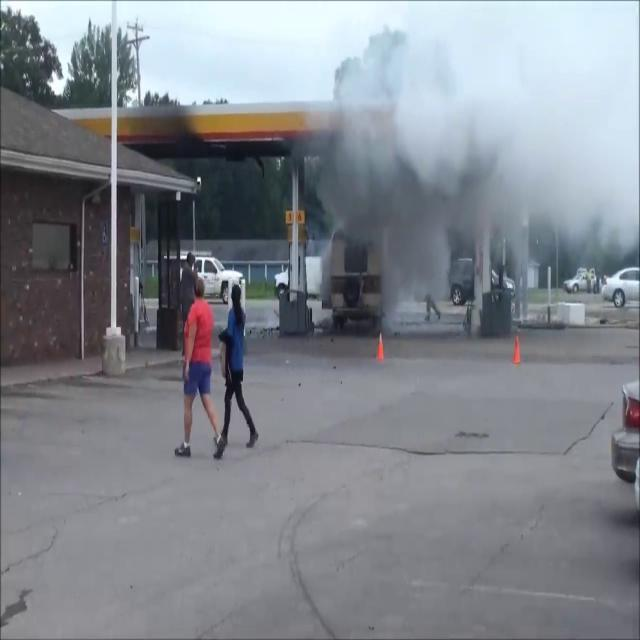Smoke: (304, 2, 638, 288)
